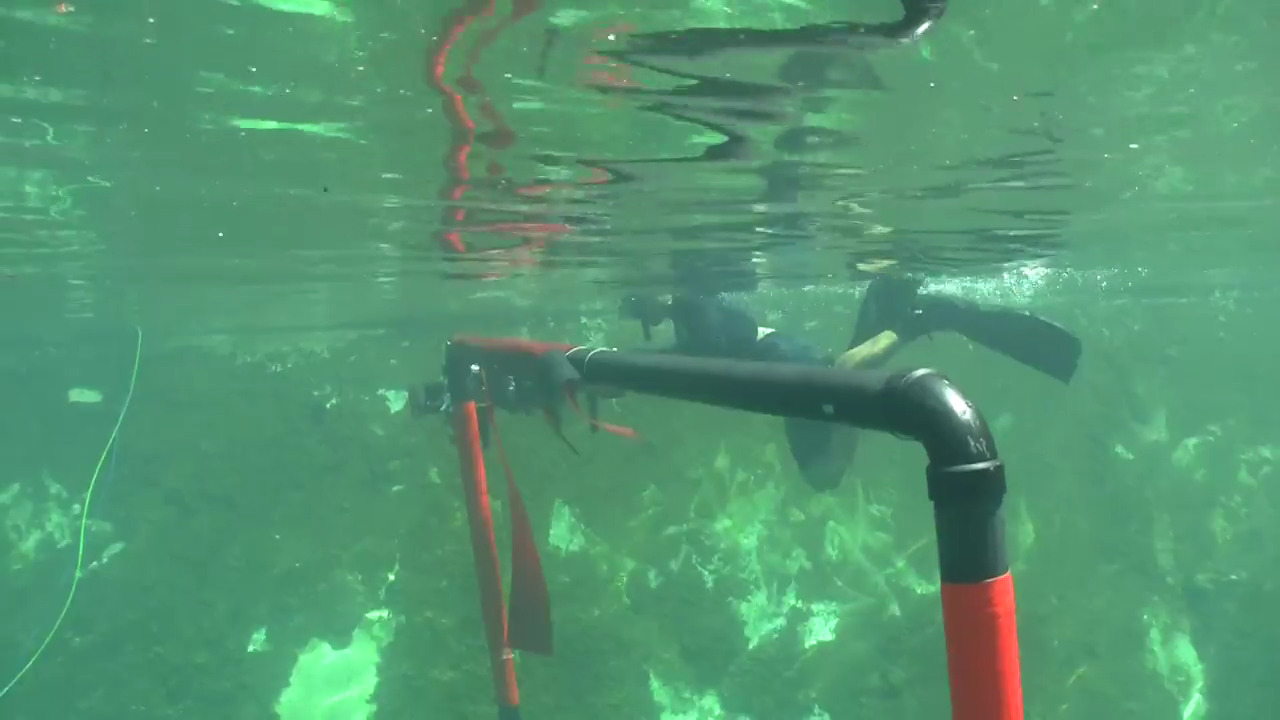gate: (434, 317, 1055, 720)
